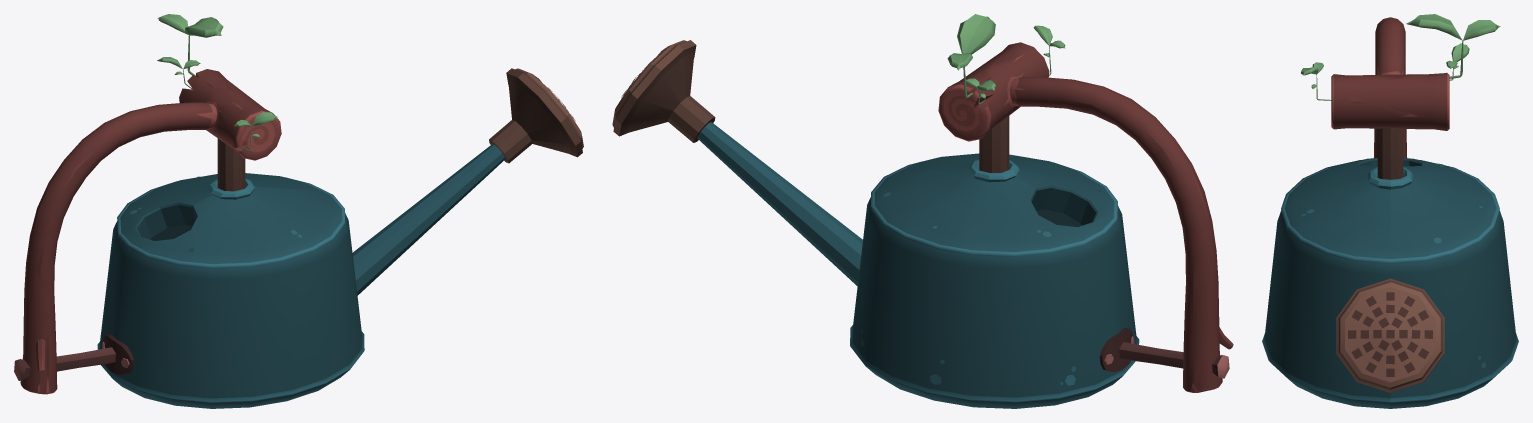
The model's file is Tool_WaterCan.fbx.
3 renders of one model, left to right at view 1: azimuth 30°, elevation 25°; view 2: azimuth 150°, elevation 25°; view 3: azimuth 270°, elevation 25°, orthographic. The views are drawn at different scales.
Visible parts, largest first — view 1: Tool_WaterCan; view 2: Tool_WaterCan; view 3: Tool_WaterCan.
Part boxes in pixels (x1,y1,x2,y2): Tool_WaterCan: (14,14,583,408); Tool_WaterCan: (612,14,1233,408); Tool_WaterCan: (1262,14,1518,408).
Size of the model in its own units: 4.95 by 2.77 by 1.92.
